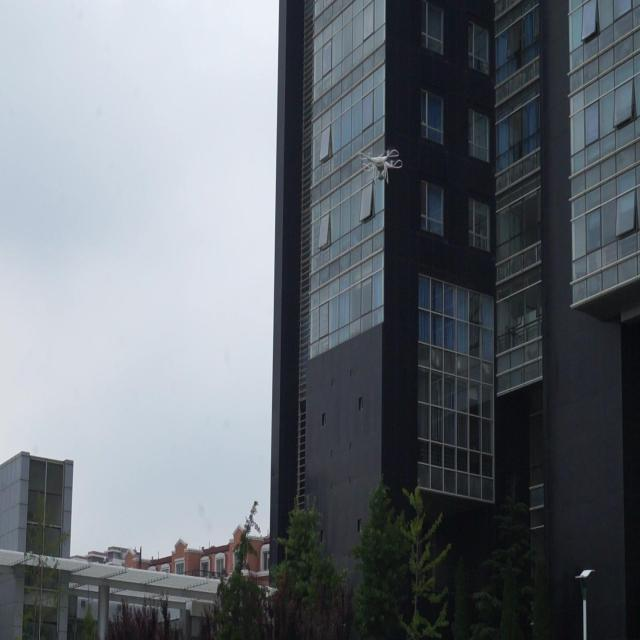drone: (358, 146, 406, 186)
